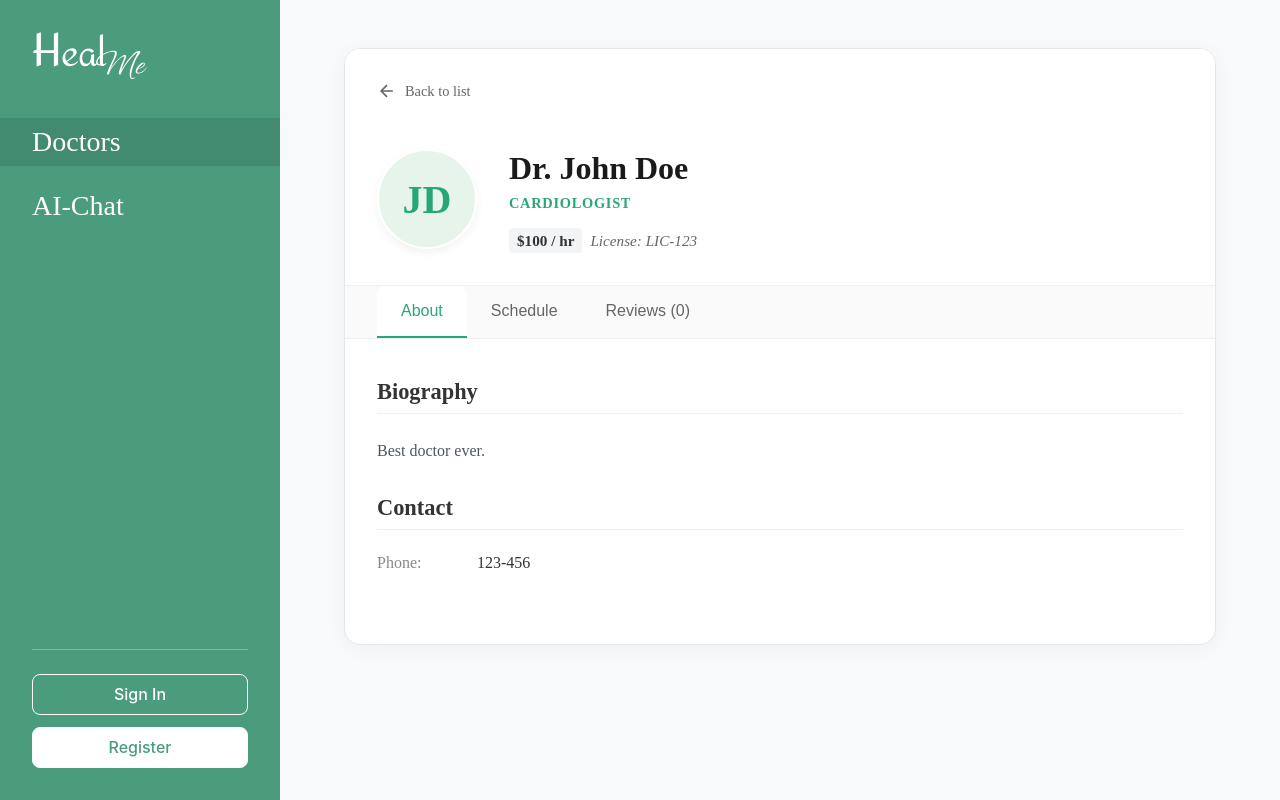
DoctorDetailsPage › switches tabs correctly
Expected: the heading "Dr. John Doe" is shown, top-left (509, 150), bottom-right (688, 186)
Expected: the heading "Biography" is shown, top-left (377, 379), bottom-right (1183, 414)
What coordinates should you click on to do the following:
click the button "Schedule"
I would click on:
 (524, 312)
Its box is top-left (467, 286), bottom-right (582, 338).
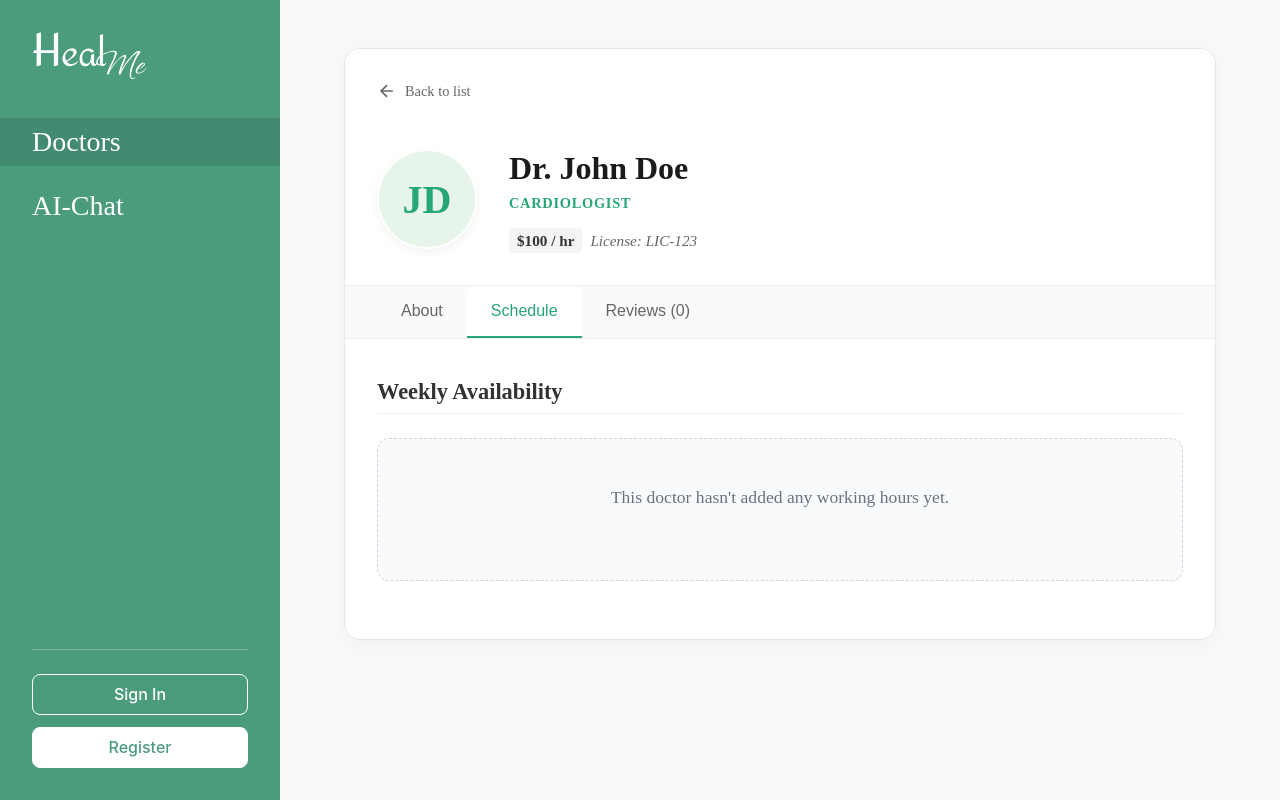
Expected: the heading "Weekly Availability" is shown, top-left (377, 379), bottom-right (1183, 414)
What coordinates should you click on to do the following:
click the button "Reviews (0)"
I would click on:
 (648, 312)
Its box is top-left (582, 286), bottom-right (714, 338).
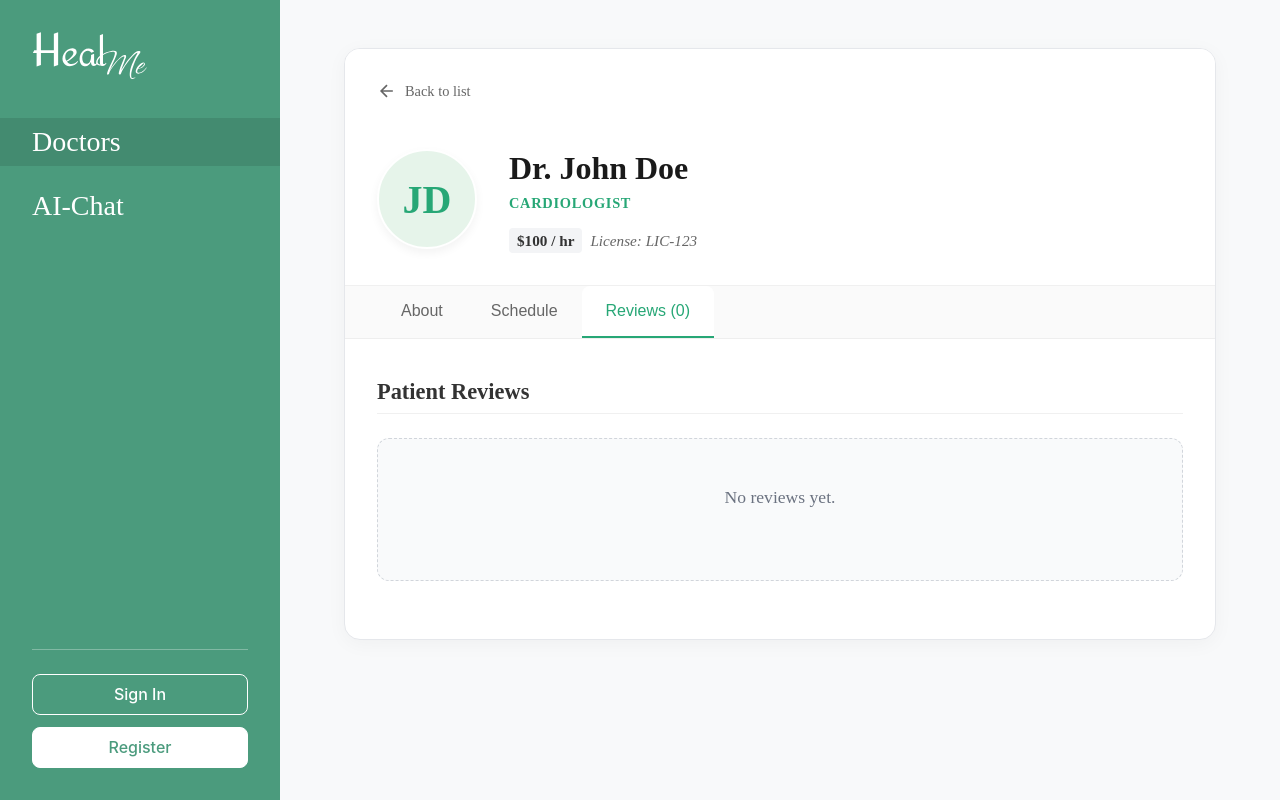
Expected: the heading "Patient Reviews" is shown, top-left (377, 379), bottom-right (1183, 414)
